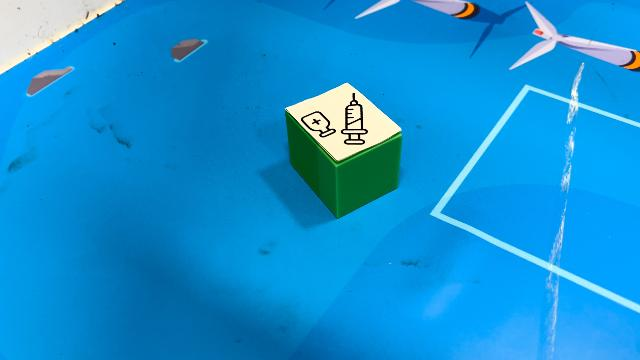syringe: (286, 82, 400, 219)
